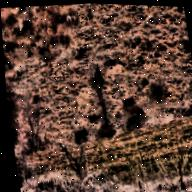boar: (68, 120, 93, 146), (125, 114, 146, 136), (121, 93, 139, 113), (130, 103, 150, 119)
